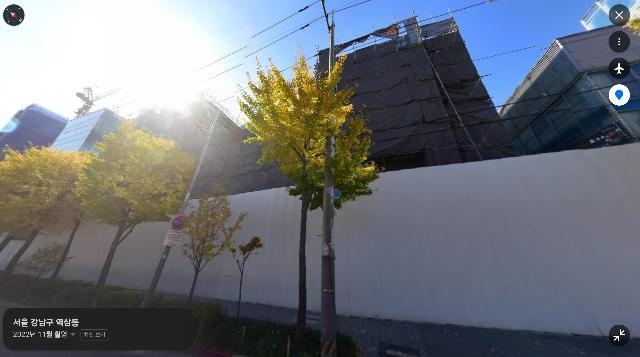ginkgo: (236, 44, 383, 355), (70, 117, 195, 308), (0, 141, 105, 283), (173, 182, 250, 308)
